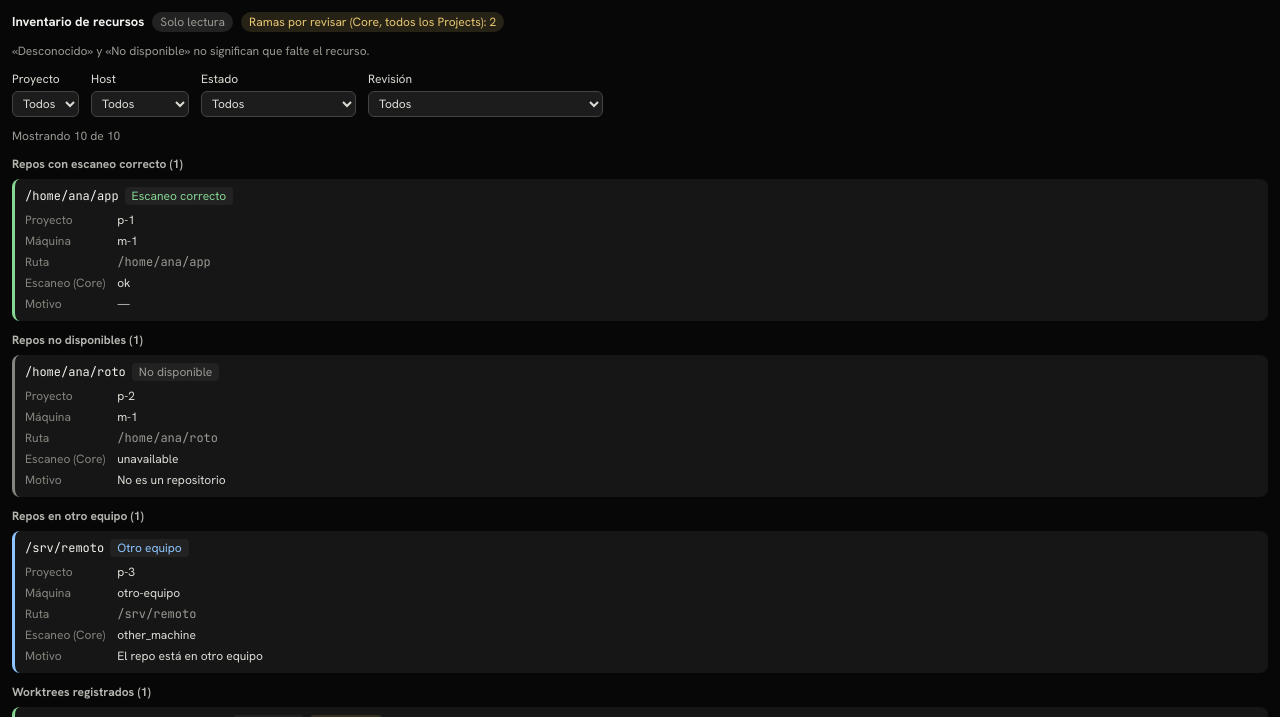
Test case: ResourcesInventory · filtros › los filtros se combinan (AND) y el vacío tiene mensaje propio
Select "p-1" in the dropdown labelled "Proyecto": (46, 104) [12,91,79,117]
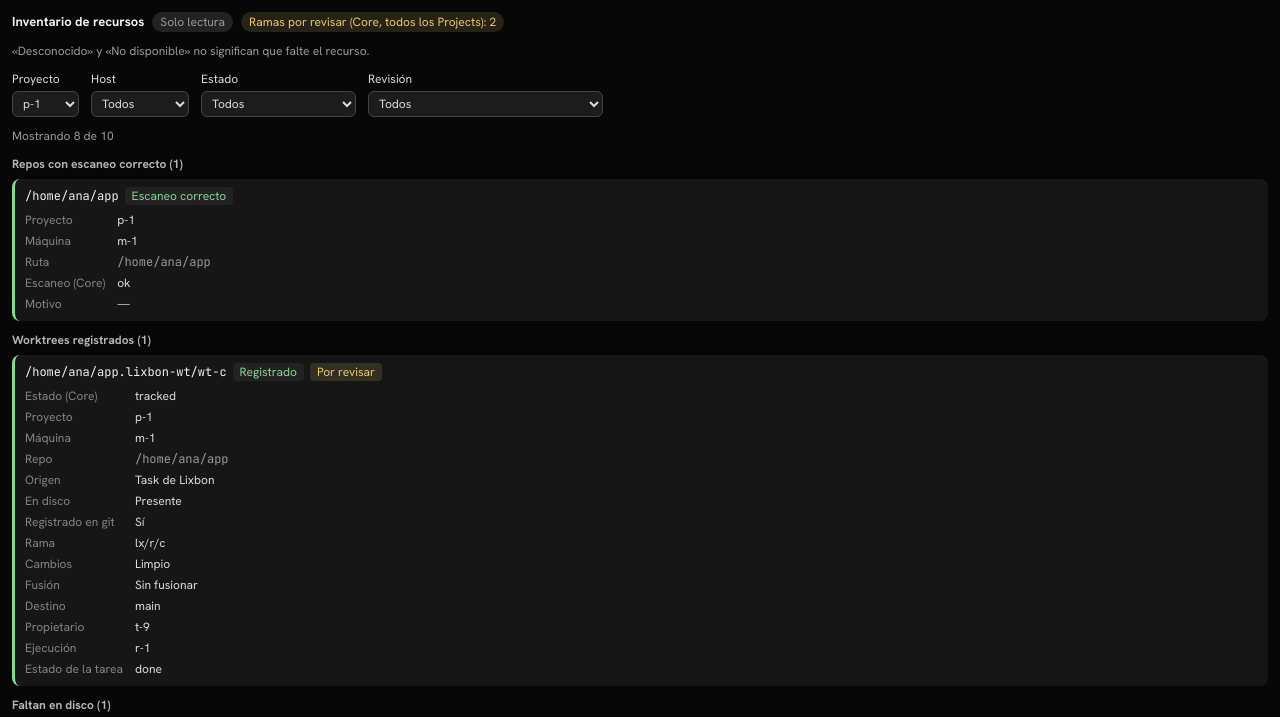
Select "Registrado" in the dropdown labelled "Estado": (278, 104) [201,91,356,117]
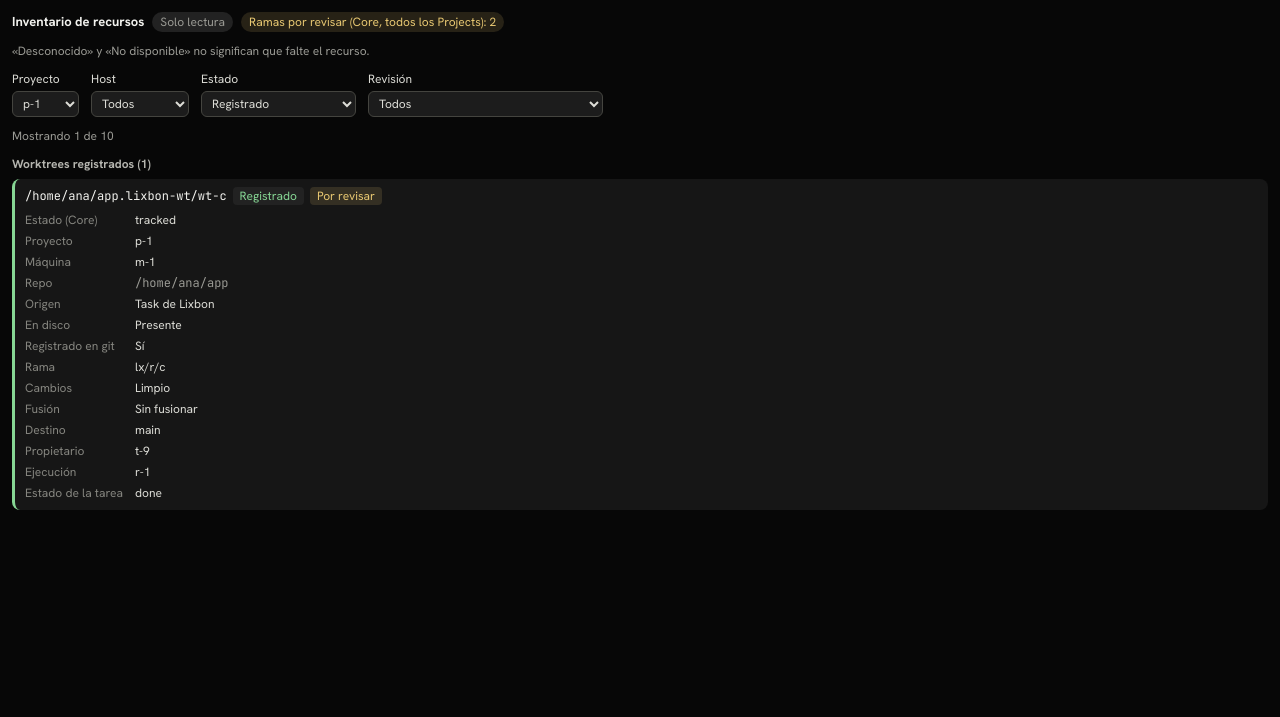
Select "Solo los que Core marca para revisar" in the dropdown labelled "Revisión": (486, 104) [368,91,603,117]
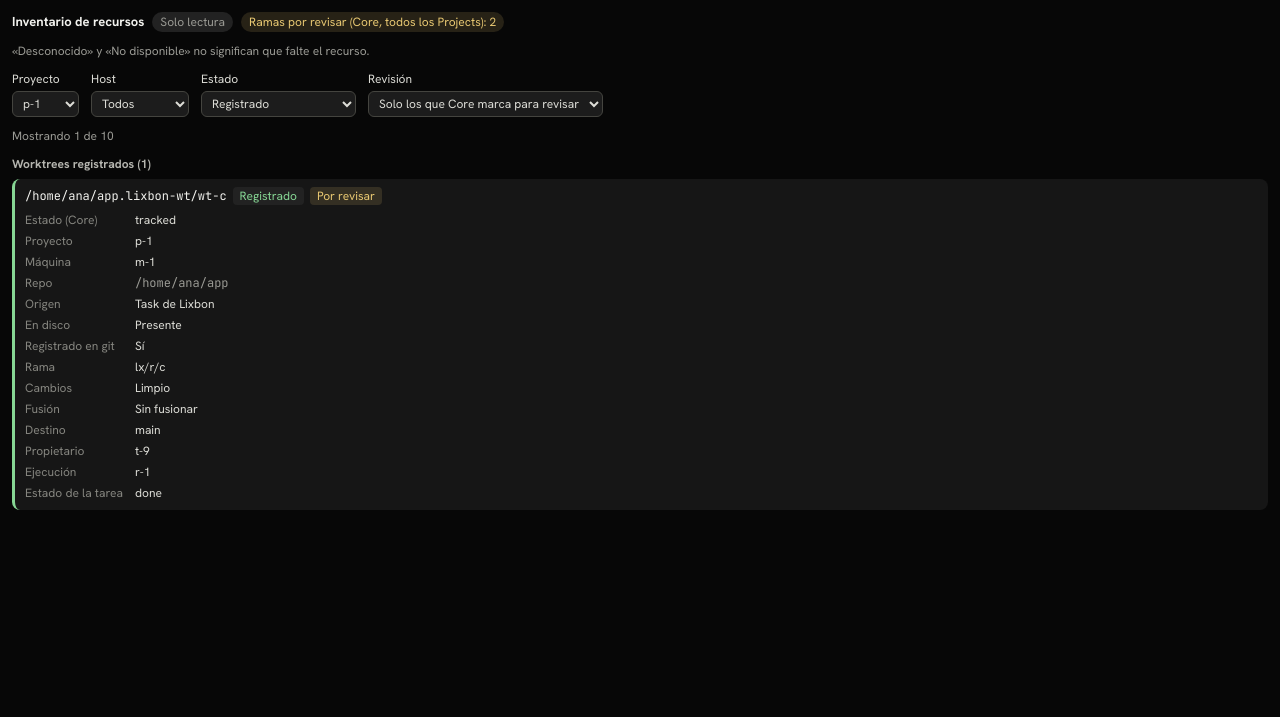
Select "Externo" in the dropdown labelled "Estado": (278, 104) [201,91,356,117]
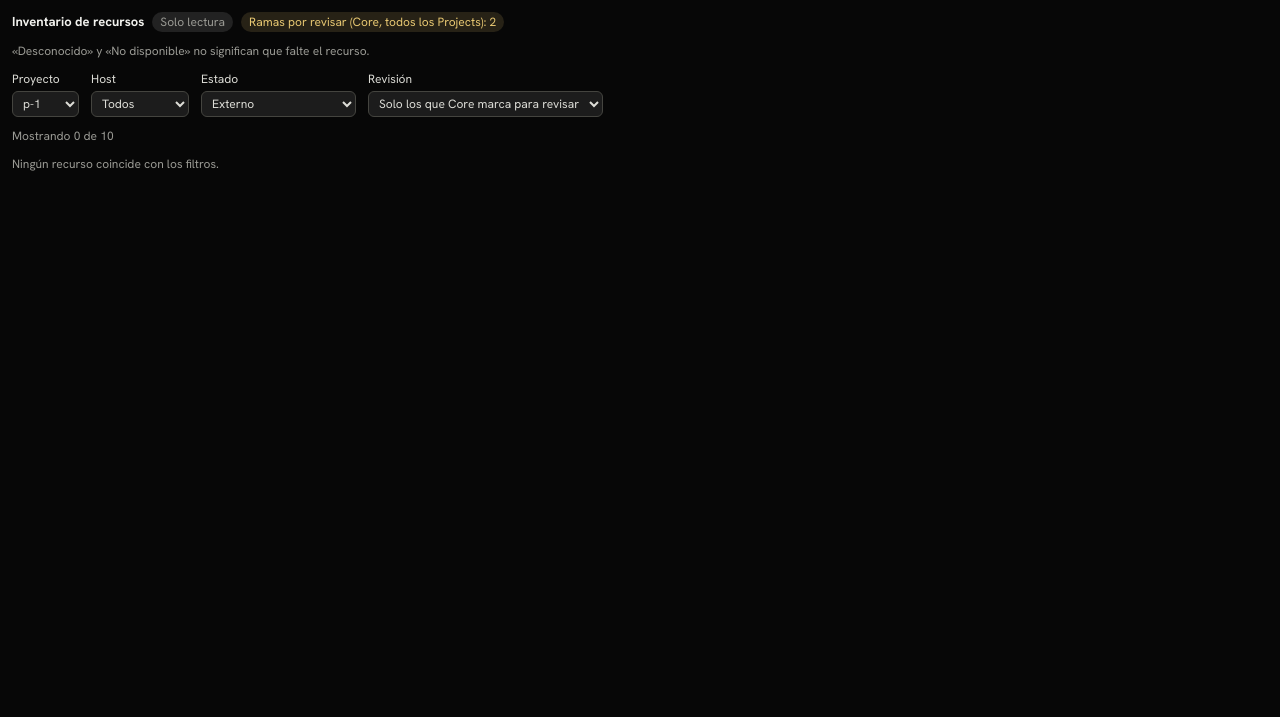
Expected: the text "Ningún recurso coincide con los filtros." is shown, [12,156,219,172]
